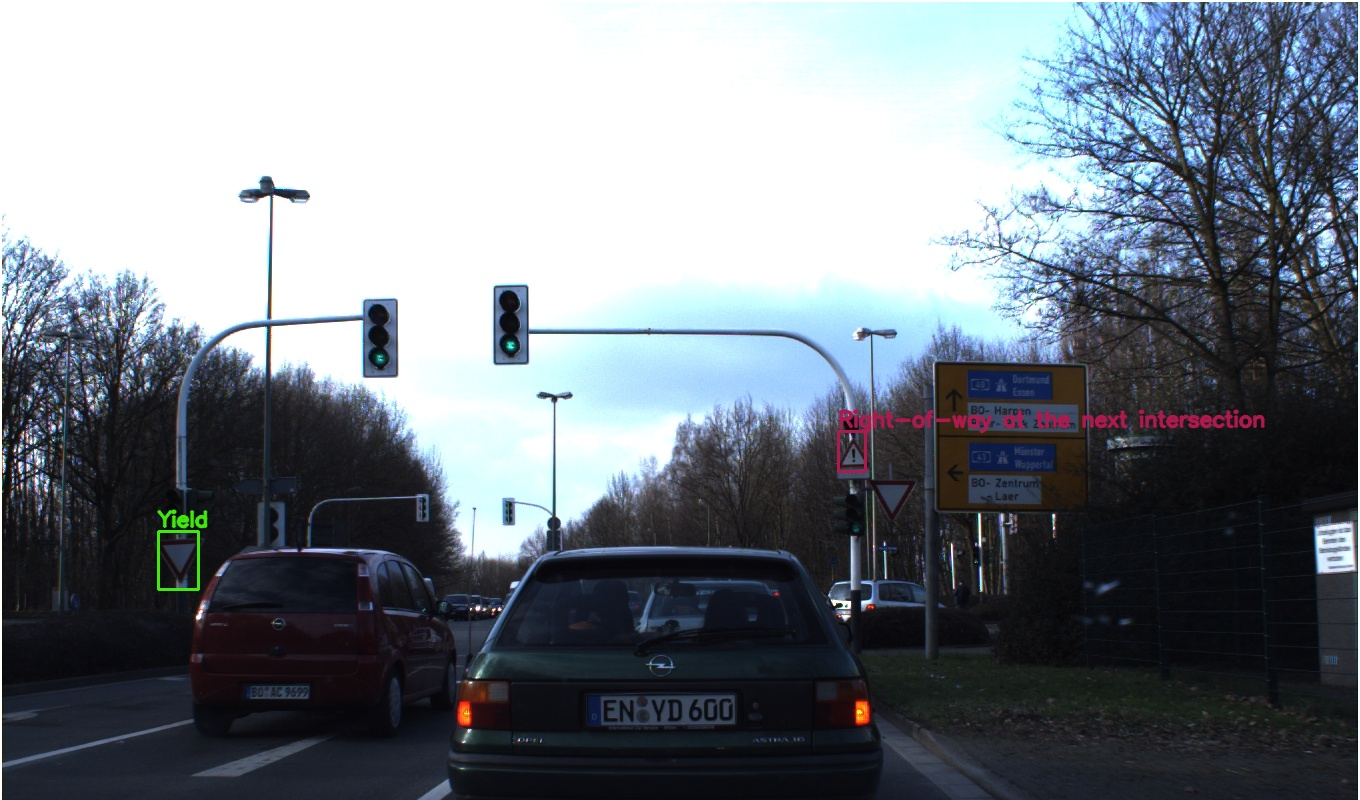No passing: (883, 385, 932, 433)
Speed limit (70km/h): (882, 335, 932, 385)
